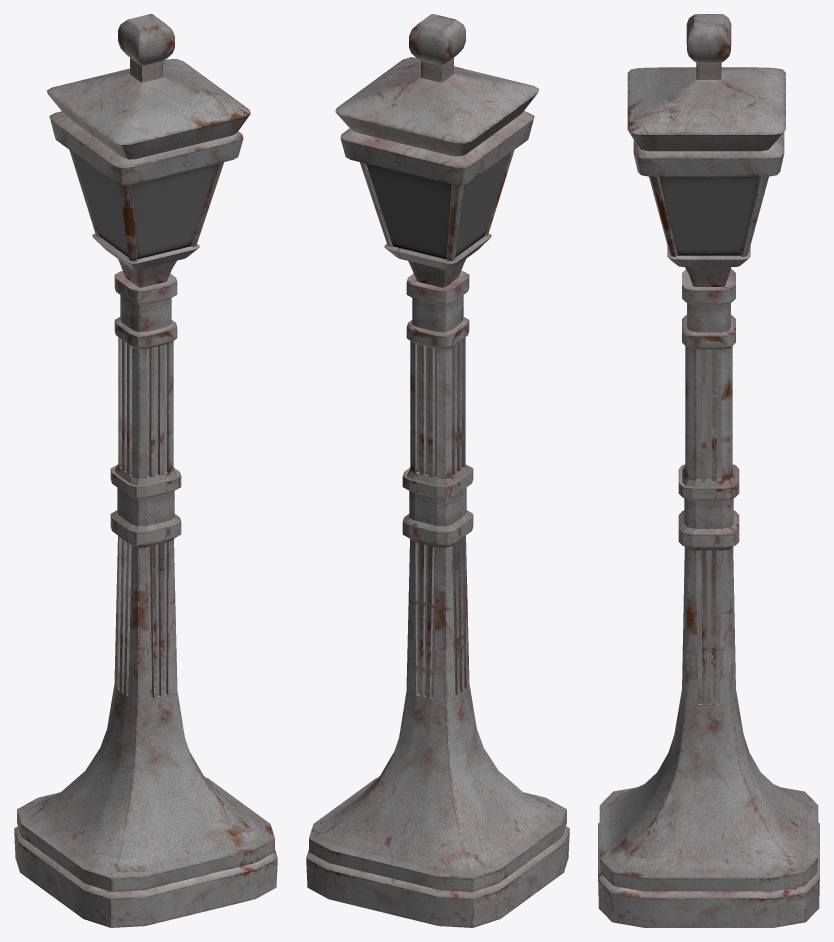
Rendered from Poste de luz(Pronto) .fbx.
The picture shows the model from 3 angles, left to right: view 1: azimuth 30°, elevation 25°; view 2: azimuth 150°, elevation 25°; view 3: azimuth 270°, elevation 25°; orthographic projection.
Visible parts, largest first — view 1: Poste de luz, Vidro transparente; view 2: Poste de luz, Vidro transparente; view 3: Poste de luz, Vidro transparente.
Boxes of the visible parts, x1,y1,x2,y2 form: Poste de luz: [14, 14, 277, 927]; Vidro transparente: [73, 152, 217, 259]; Poste de luz: [306, 14, 569, 927]; Vidro transparente: [366, 152, 510, 259]; Poste de luz: [598, 14, 819, 927]; Vidro transparente: [659, 176, 758, 255].
Bounding box in the file's own units: 139 × 594 × 139.
2 materials, 2 textured.
